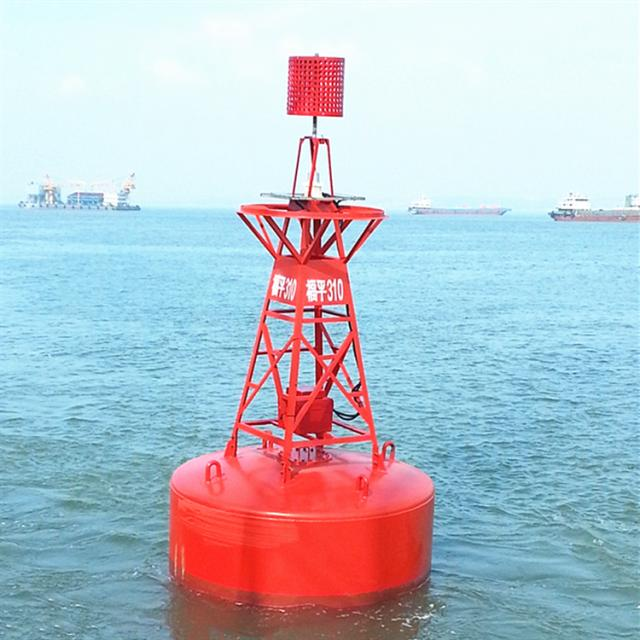buoy: (166, 51, 436, 604)
